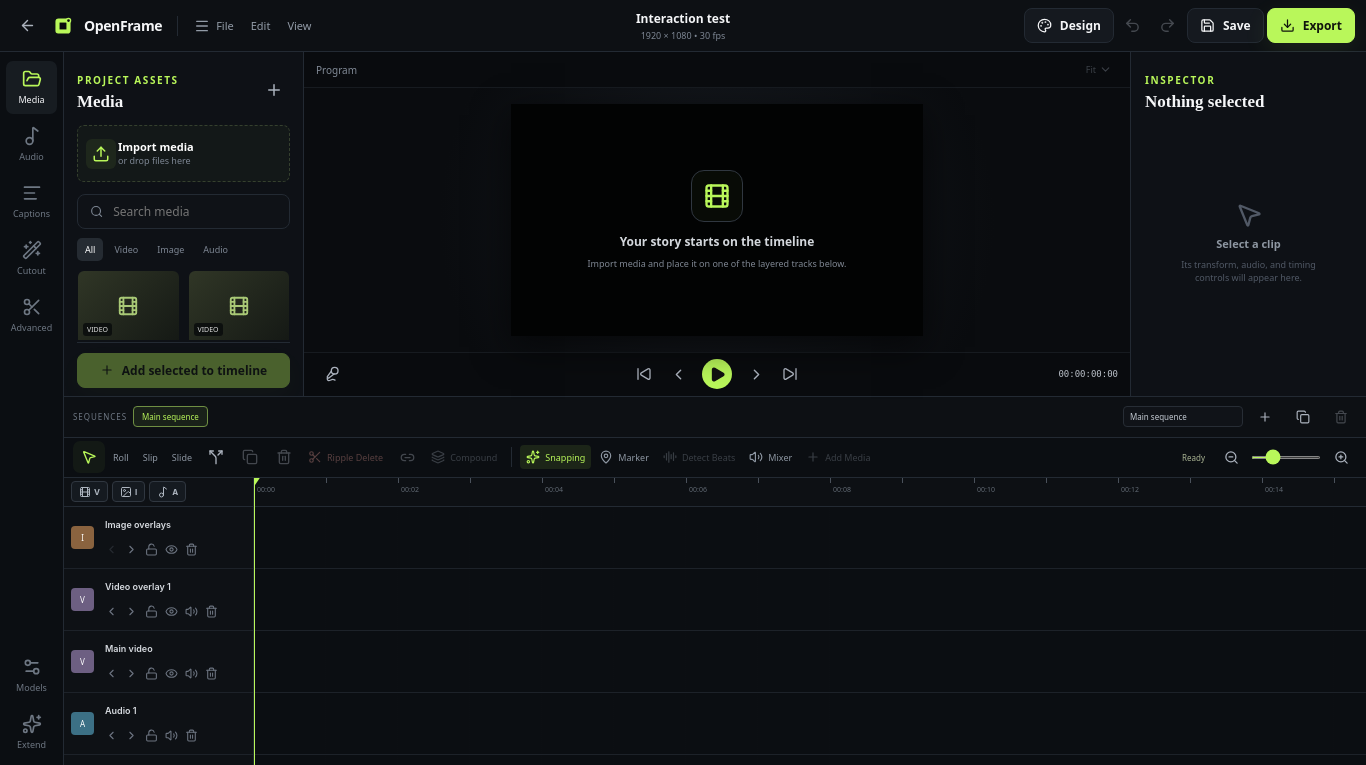
Test: editor interactions › opens working File and View menus
Click the button "File" at point(214, 26), box left=187, top=10, right=241, bottom=40
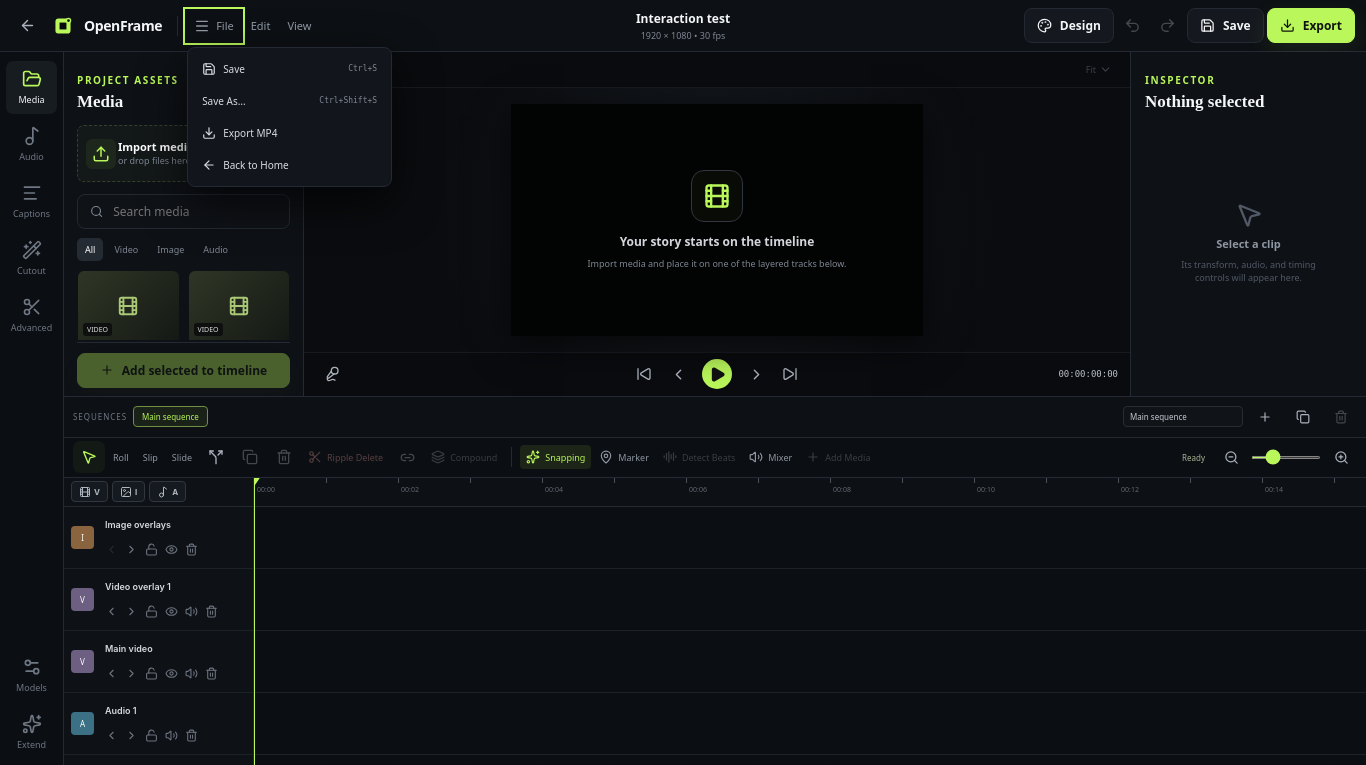
expect the button "Export MP4" is shown: met, box left=193, top=116, right=386, bottom=148
expect the button "Save As… Ctrl+Shift+S" is shown: met, box left=193, top=84, right=386, bottom=116
Click the button "View" at point(299, 26), box left=280, top=11, right=318, bottom=40
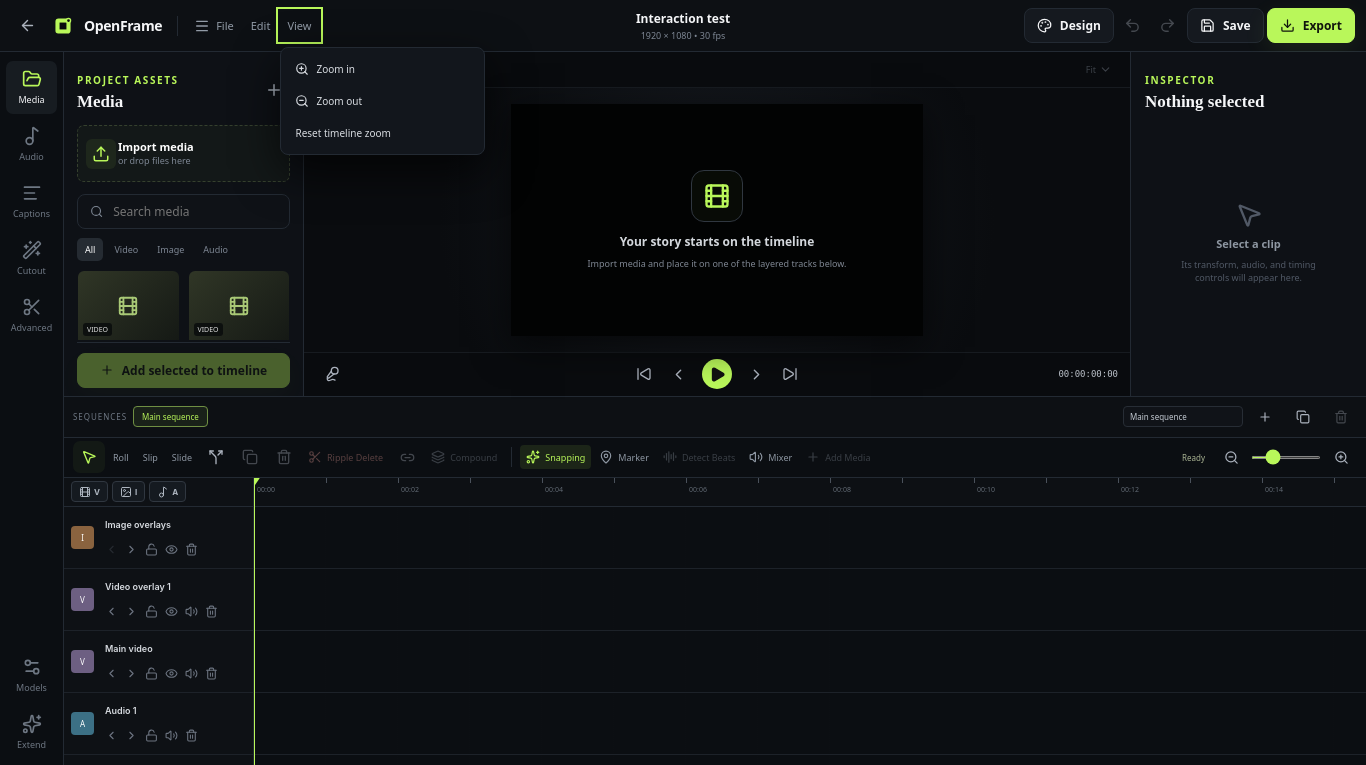
expect the slider holds "1": met, box left=1251, top=456, right=1321, bottom=459
Click the button "Zoom in" at point(383, 69), box left=286, top=53, right=479, bottom=85
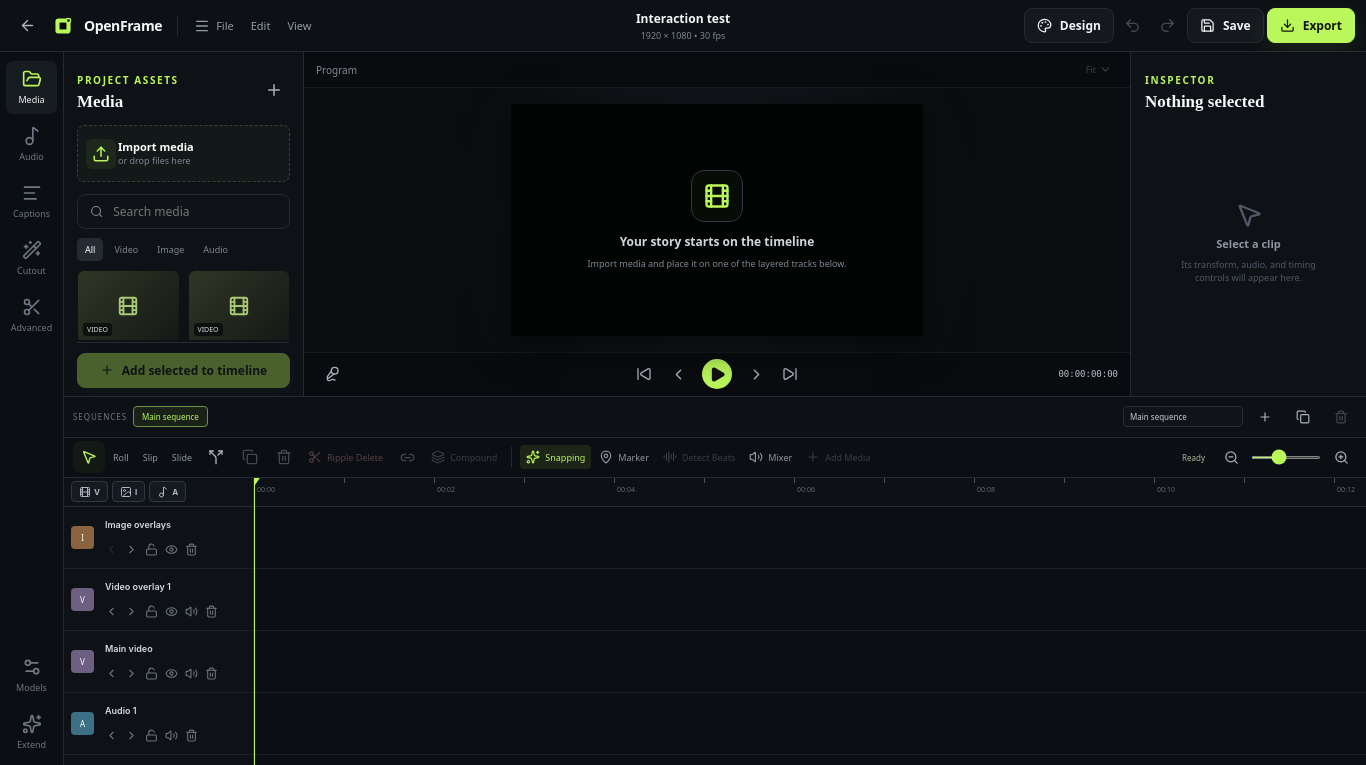
expect the slider holds "1.25": met, box left=1251, top=456, right=1321, bottom=459
